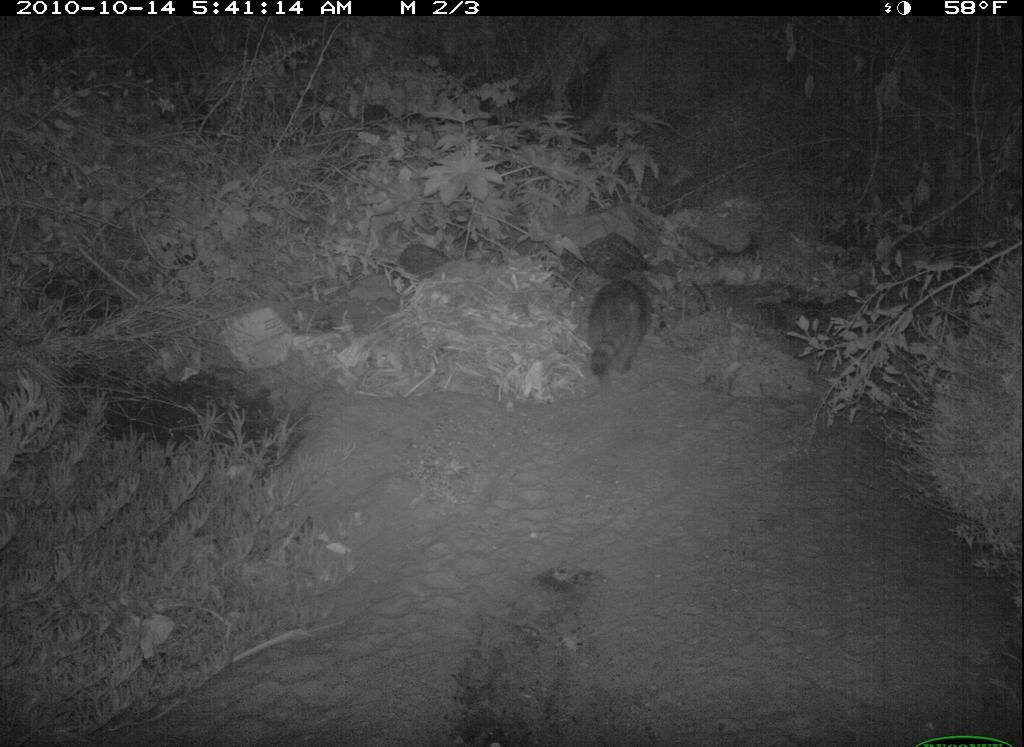raccoon: (573, 263, 669, 400)
